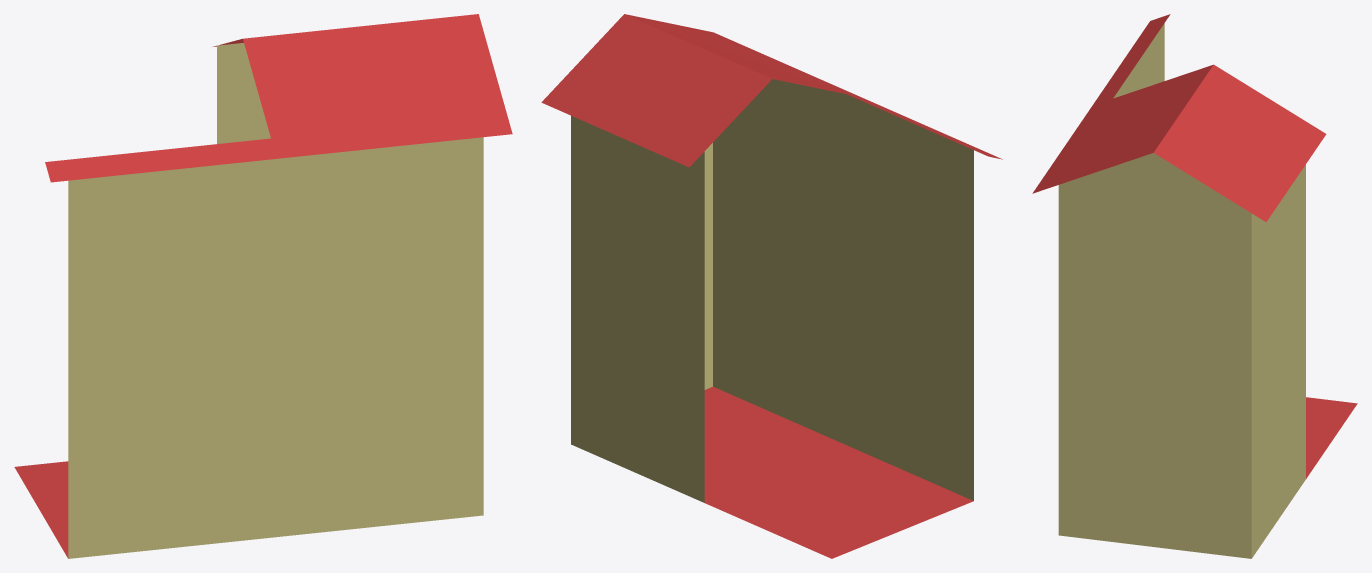
3 views of the same model, side by side, from view 1: azimuth 30°, elevation 25°; view 2: azimuth 150°, elevation 25°; view 3: azimuth 270°, elevation 25° (orthographic). The views are drawn at different scales.
Bounding box in the file's own units: 11.13 × 7.61 × 10.4.
